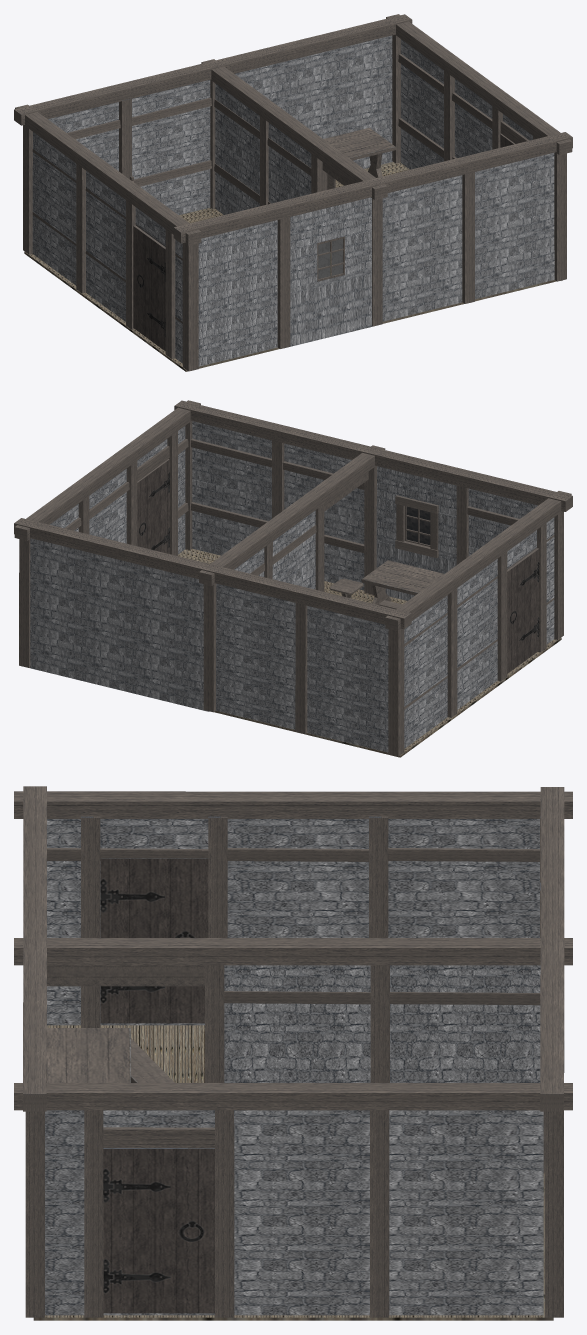
File: house 1 - Interior.fbx
3 renders of one model, top to bottom at view 1: azimuth 30°, elevation 25°; view 2: azimuth 150°, elevation 25°; view 3: azimuth 270°, elevation 25°, orthographic. The views are drawn at different scales.
Visible parts, largest first — view 1: Cube.041; view 2: Cube.041; view 3: Cube.041.
Part boxes in pixels (<box>): Cube.041: <box>14,14,572,371</box>; Cube.041: <box>14,400,572,757</box>; Cube.041: <box>14,786,572,1320</box>.
Bounding box in the file's own units: 2865 × 1003 × 2199.
Materials: 9 (9 with a texture image).
